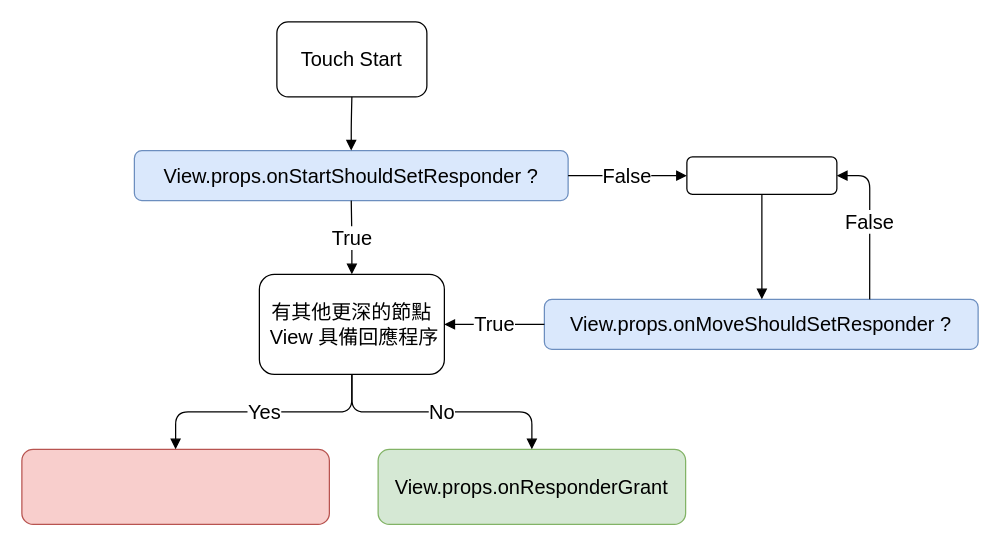
Some shapes in this 1000 by 546 pixel diagram are drawn without their labels. The shapes that lost their labels are listed below. From the top down, each one's centre as x and y in pixels, then its label:
(761,175): Wait for move
(175,486): View.props.onResponderReject
